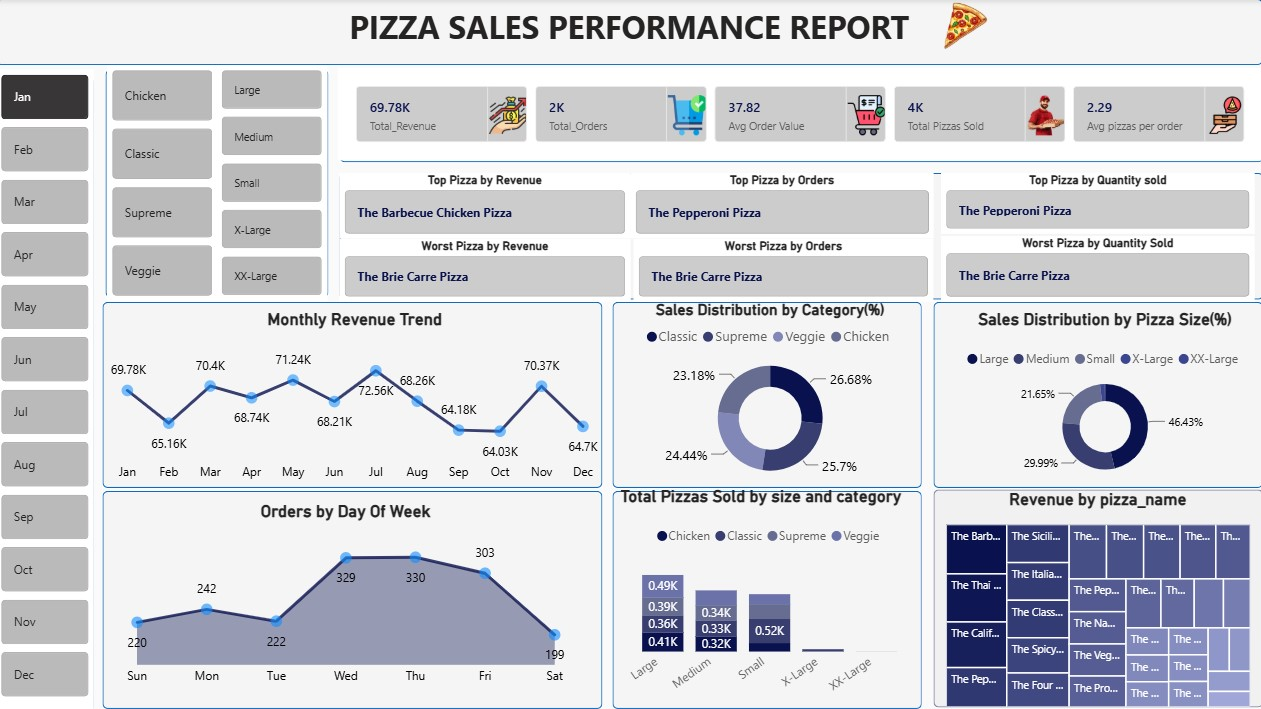

This screenshot's page, from the dashboard's own definition file:
{"tool":"powerbi","page":{"name":"Page 1","canvas":[1280,720],"ordinal":0},"visuals":[{"type":"shape","box":[0,0,1280,66.7],"z":0,"group":"g1"},{"type":"shape","box":[946.2,495.4,333.8,220],"z":0},{"type":"group","id":"g1","title":"Group 1","box":[0,0,1280,720],"z":1000},{"type":"shape","box":[0,78.5,98.5,641.5],"z":1000,"group":"g1"},{"type":"shape","box":[110,71.7,225,230],"z":2000,"group":"g1"},{"type":"lineChart","title":"Monthly Revenue Trend","fields":{"Category":["PIZZA_SALES.Month Name"],"Y":["PIZZA_SALES.Total_Revenue"]},"box":[110,313.3,503.3,181.7],"z":2000},{"type":"shape","box":[346.2,90.8,933.8,73.8],"z":3000,"group":"g1"},{"type":"areaChart","title":"Orders by Day Of Week","fields":{"Category":["PIZZA_SALES.Day Name"],"Y":["PIZZA_SALES.Total_Orders"]},"box":[109.2,507.7,487.7,193.8],"z":3000},{"type":"shape","box":[346.2,175.4,933.8,127.7],"z":4000,"group":"g1"},{"type":"donutChart","title":"Sales Distribution by Pizza Size(%)","fields":{"Y":["PIZZA_SALES.Total_Revenue"],"Category":["PIZZA_SALES.pizza_size"]},"box":[958.3,313.3,321.7,178.3],"z":4000},{"type":"shape","box":[107.7,305.4,504.6,187.7],"z":5000,"group":"g1"},{"type":"columnChart","title":"Total Pizzas Sold by size and category","fields":{"Category":["PIZZA_SALES.pizza_size"],"Series":["PIZZA_SALES.pizza_category"],"Y":["PIZZA_SALES.Total Pizzas Sold"]},"box":[624.6,492.3,312.3,226.2],"z":5000},{"type":"treemap","title":"Revenue by pizza_name","fields":{"Values":["PIZZA_SALES.Total_Revenue"],"Group":["PIZZA_SALES.pizza_name"]},"box":[953.8,495.4,316.9,224.6],"z":6000},{"type":"shape","box":[107.7,496.2,504.6,220],"z":6000,"group":"g1"},{"type":"advancedSlicerVisual","title":"Top Pizza by Revenue","fields":{"Values":["PIZZA_SALES.pizza_name"]},"box":[346.2,175.4,293.8,66.2],"z":7000},{"type":"shape","box":[623.1,305.4,312.3,187.7],"z":7000,"group":"g1"},{"type":"advancedSlicerVisual","title":"Worst Pizza by Revenue","fields":{"Values":["PIZZA_SALES.pizza_name"]},"box":[346.8,242.3,293.8,63.6],"z":8000},{"type":"shape","box":[946.2,305.4,333.8,187.7],"z":8000,"group":"g1"},{"type":"advancedSlicerVisual","title":"Top Pizza by Orders","fields":{"Values":["PIZZA_SALES.pizza_name"]},"box":[640,175.4,306.2,66.2],"z":9000},{"type":"shape","box":[623.1,496.2,312.3,220],"z":9000,"group":"g1"},{"type":"cardVisual","fields":{"Data":["PIZZA_SALES.Total_Revenue","PIZZA_SALES.Total_Orders","PIZZA_SALES.Avg Order Value","PIZZA_SALES.Total Pizzas Sold","PIZZA_SALES.Avg pizzas per order"]},"box":[345,70,933.3,93.3],"z":10000,"group":"g1"},{"type":"advancedSlicerVisual","title":"Worst Pizza by Orders","fields":{"Values":["PIZZA_SALES.pizza_name"]},"box":[643.5,242.3,302.8,63.6],"z":10000},{"type":"advancedSlicerVisual","title":"Top Pizza by Quantity sold","fields":{"Values":["PIZZA_SALES.pizza_name"]},"box":[953.8,175.4,316.9,61.5],"z":11000},{"type":"donutChart","title":"Sales Distribution by Category(%)","fields":{"Category":["PIZZA_SALES.pizza_category"],"Y":["PIZZA_SALES.Total_Revenue"]},"box":[625,305,311.7,191.7],"z":11000,"group":"g1"},{"type":"advancedSlicerVisual","title":"Worst Pizza by Quantity Sold","fields":{"Values":["PIZZA_SALES.pizza_name"]},"box":[953.8,240,316.9,61.5],"z":12000},{"type":"advancedSlicerVisual","fields":{"Values":["PIZZA_SALES.Month Name"]},"box":[0,71.7,98.3,648.3],"z":13000},{"type":"advancedSlicerVisual","fields":{"Values":["PIZZA_SALES.pizza_category"]},"box":[111.7,66.7,111.7,238.3],"z":14000},{"type":"advancedSlicerVisual","fields":{"Values":["PIZZA_SALES.pizza_size"]},"box":[223.3,66.7,111.7,238.3],"z":15000},{"type":"textbox","box":[0,0,1278.3,55],"z":15001,"group":"g1"},{"type":"image","box":[920,0,113.3,55],"z":15001}]}

Visuals, with their boxes in screenshot pixels (x1, y1, x2, y2), scaled from the page's 1280x720 canvas onto the 1261x709 screenshot:
shape: [0, 0, 1260, 66]
shape: [932, 488, 1260, 704]
"Group 1" group: [0, 0, 1260, 708]
shape: [0, 77, 97, 708]
shape: [108, 71, 330, 297]
"Monthly Revenue Trend" lineChart: [108, 309, 604, 487]
shape: [341, 89, 1260, 162]
"Orders by Day Of Week" areaChart: [108, 500, 588, 691]
shape: [341, 173, 1260, 298]
"Sales Distribution by Pizza Size(%)" donutChart: [944, 309, 1260, 484]
shape: [106, 301, 603, 486]
"Total Pizzas Sold by size and category" columnChart: [615, 485, 923, 708]
"Revenue by pizza_name" treemap: [940, 488, 1252, 708]
shape: [106, 489, 603, 705]
"Top Pizza by Revenue" advancedSlicerVisual: [341, 173, 630, 238]
shape: [614, 301, 922, 486]
"Worst Pizza by Revenue" advancedSlicerVisual: [342, 239, 631, 301]
shape: [932, 301, 1260, 486]
"Top Pizza by Orders" advancedSlicerVisual: [630, 173, 932, 238]
shape: [614, 489, 922, 705]
cardVisual - PIZZA_SALES.Total_Revenue x PIZZA_SALES.Total_Orders: [340, 69, 1259, 161]
"Worst Pizza by Orders" advancedSlicerVisual: [634, 239, 932, 301]
"Top Pizza by Quantity sold" advancedSlicerVisual: [940, 173, 1252, 233]
"Sales Distribution by Category(%)" donutChart: [616, 300, 923, 489]
"Worst Pizza by Quantity Sold" advancedSlicerVisual: [940, 236, 1252, 297]
advancedSlicerVisual - PIZZA_SALES.Month Name: [0, 71, 97, 708]
advancedSlicerVisual - PIZZA_SALES.pizza_category: [110, 66, 220, 300]
advancedSlicerVisual - PIZZA_SALES.pizza_size: [220, 66, 330, 300]
textbox: [0, 0, 1259, 54]
image: [906, 0, 1018, 54]
